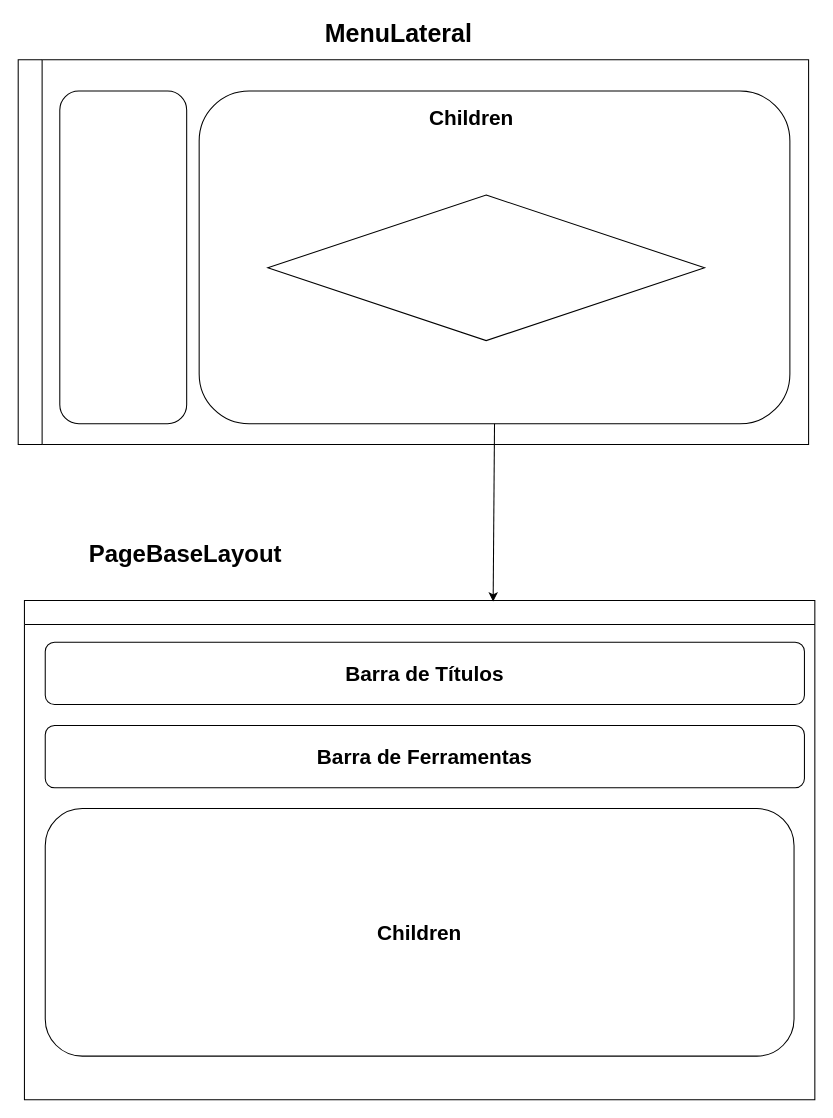
Image size: 833x1118. Some labels were removed from this diagram. Each missing label, with the box of its shape:
AppRoutes: (267, 194, 705, 341)
Menu: (59, 90, 187, 424)
